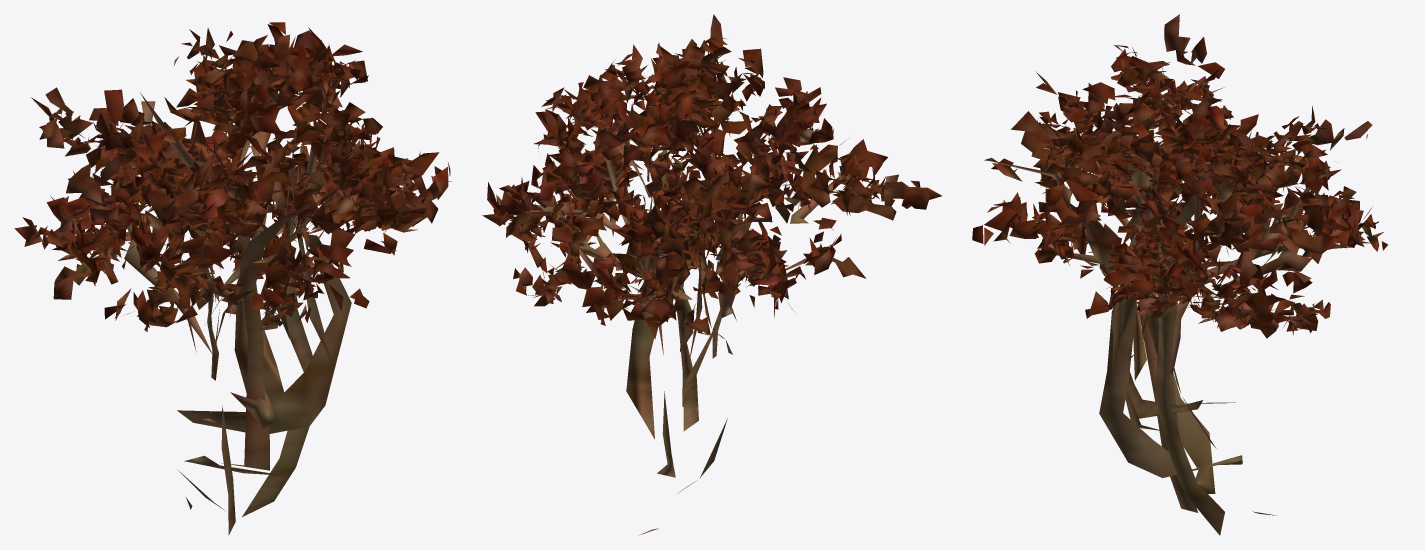
File: tree_04_autumn_crimson.glb
3 views of the same model, side by side, from view 1: azimuth 30°, elevation 25°; view 2: azimuth 150°, elevation 25°; view 3: azimuth 270°, elevation 25° (orthographic). The views are drawn at different scales.
Parts seen in each view (by area): view 1: geometry_0; view 2: geometry_0; view 3: geometry_0.
Boxes of the visible parts, x1,y1,x2,y2 form: geometry_0: [14, 22, 451, 535]; geometry_0: [482, 14, 941, 535]; geometry_0: [972, 14, 1387, 535].
Bounding box in the file's own units: 0.7845 × 1 × 0.8201.
Materials: 1 (1 with a texture image).
